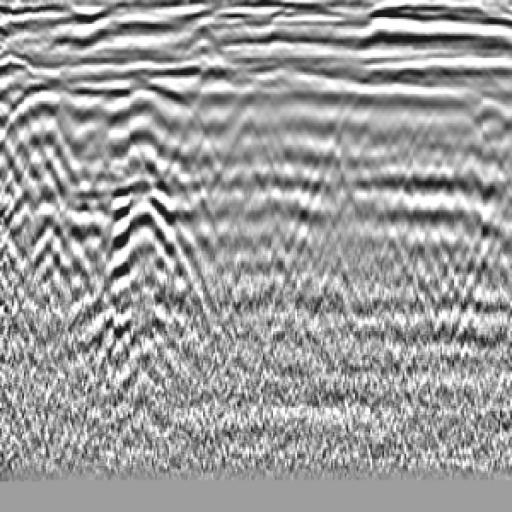non-metallic: (1, 44, 228, 346)
